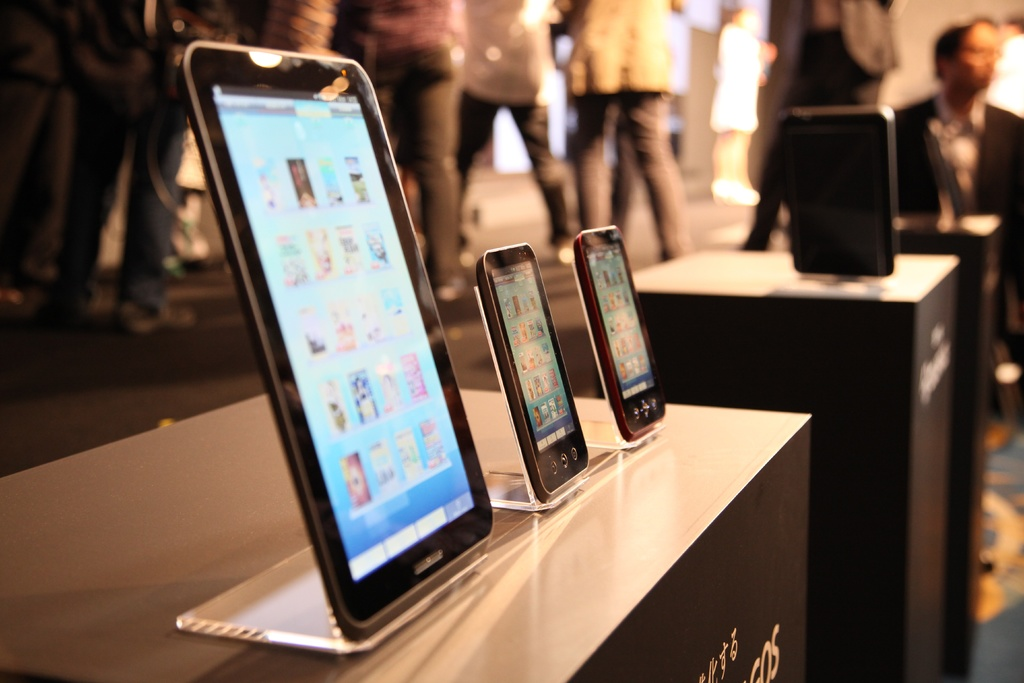mobile phone: (176, 40, 513, 649), (478, 240, 590, 501), (574, 225, 666, 441)
